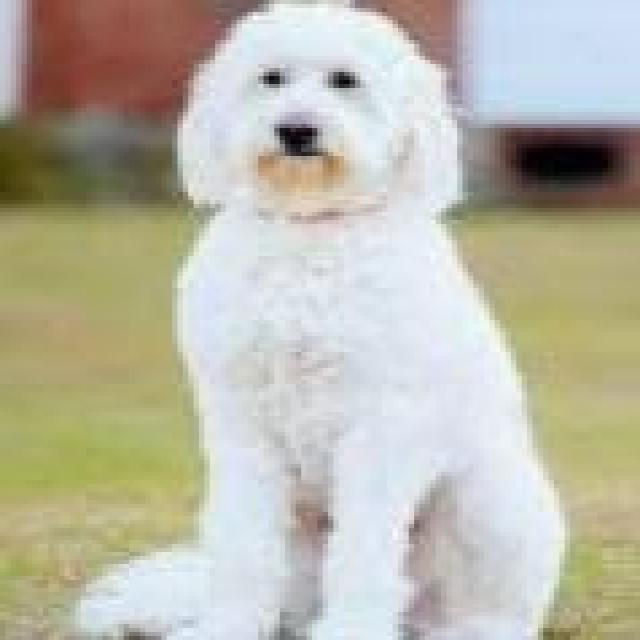Perro: (54, 0, 575, 640)
